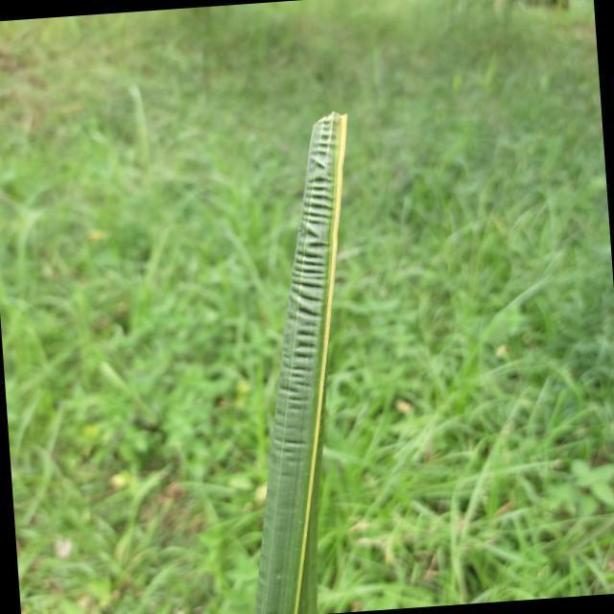Boron: (252, 110, 352, 614)
